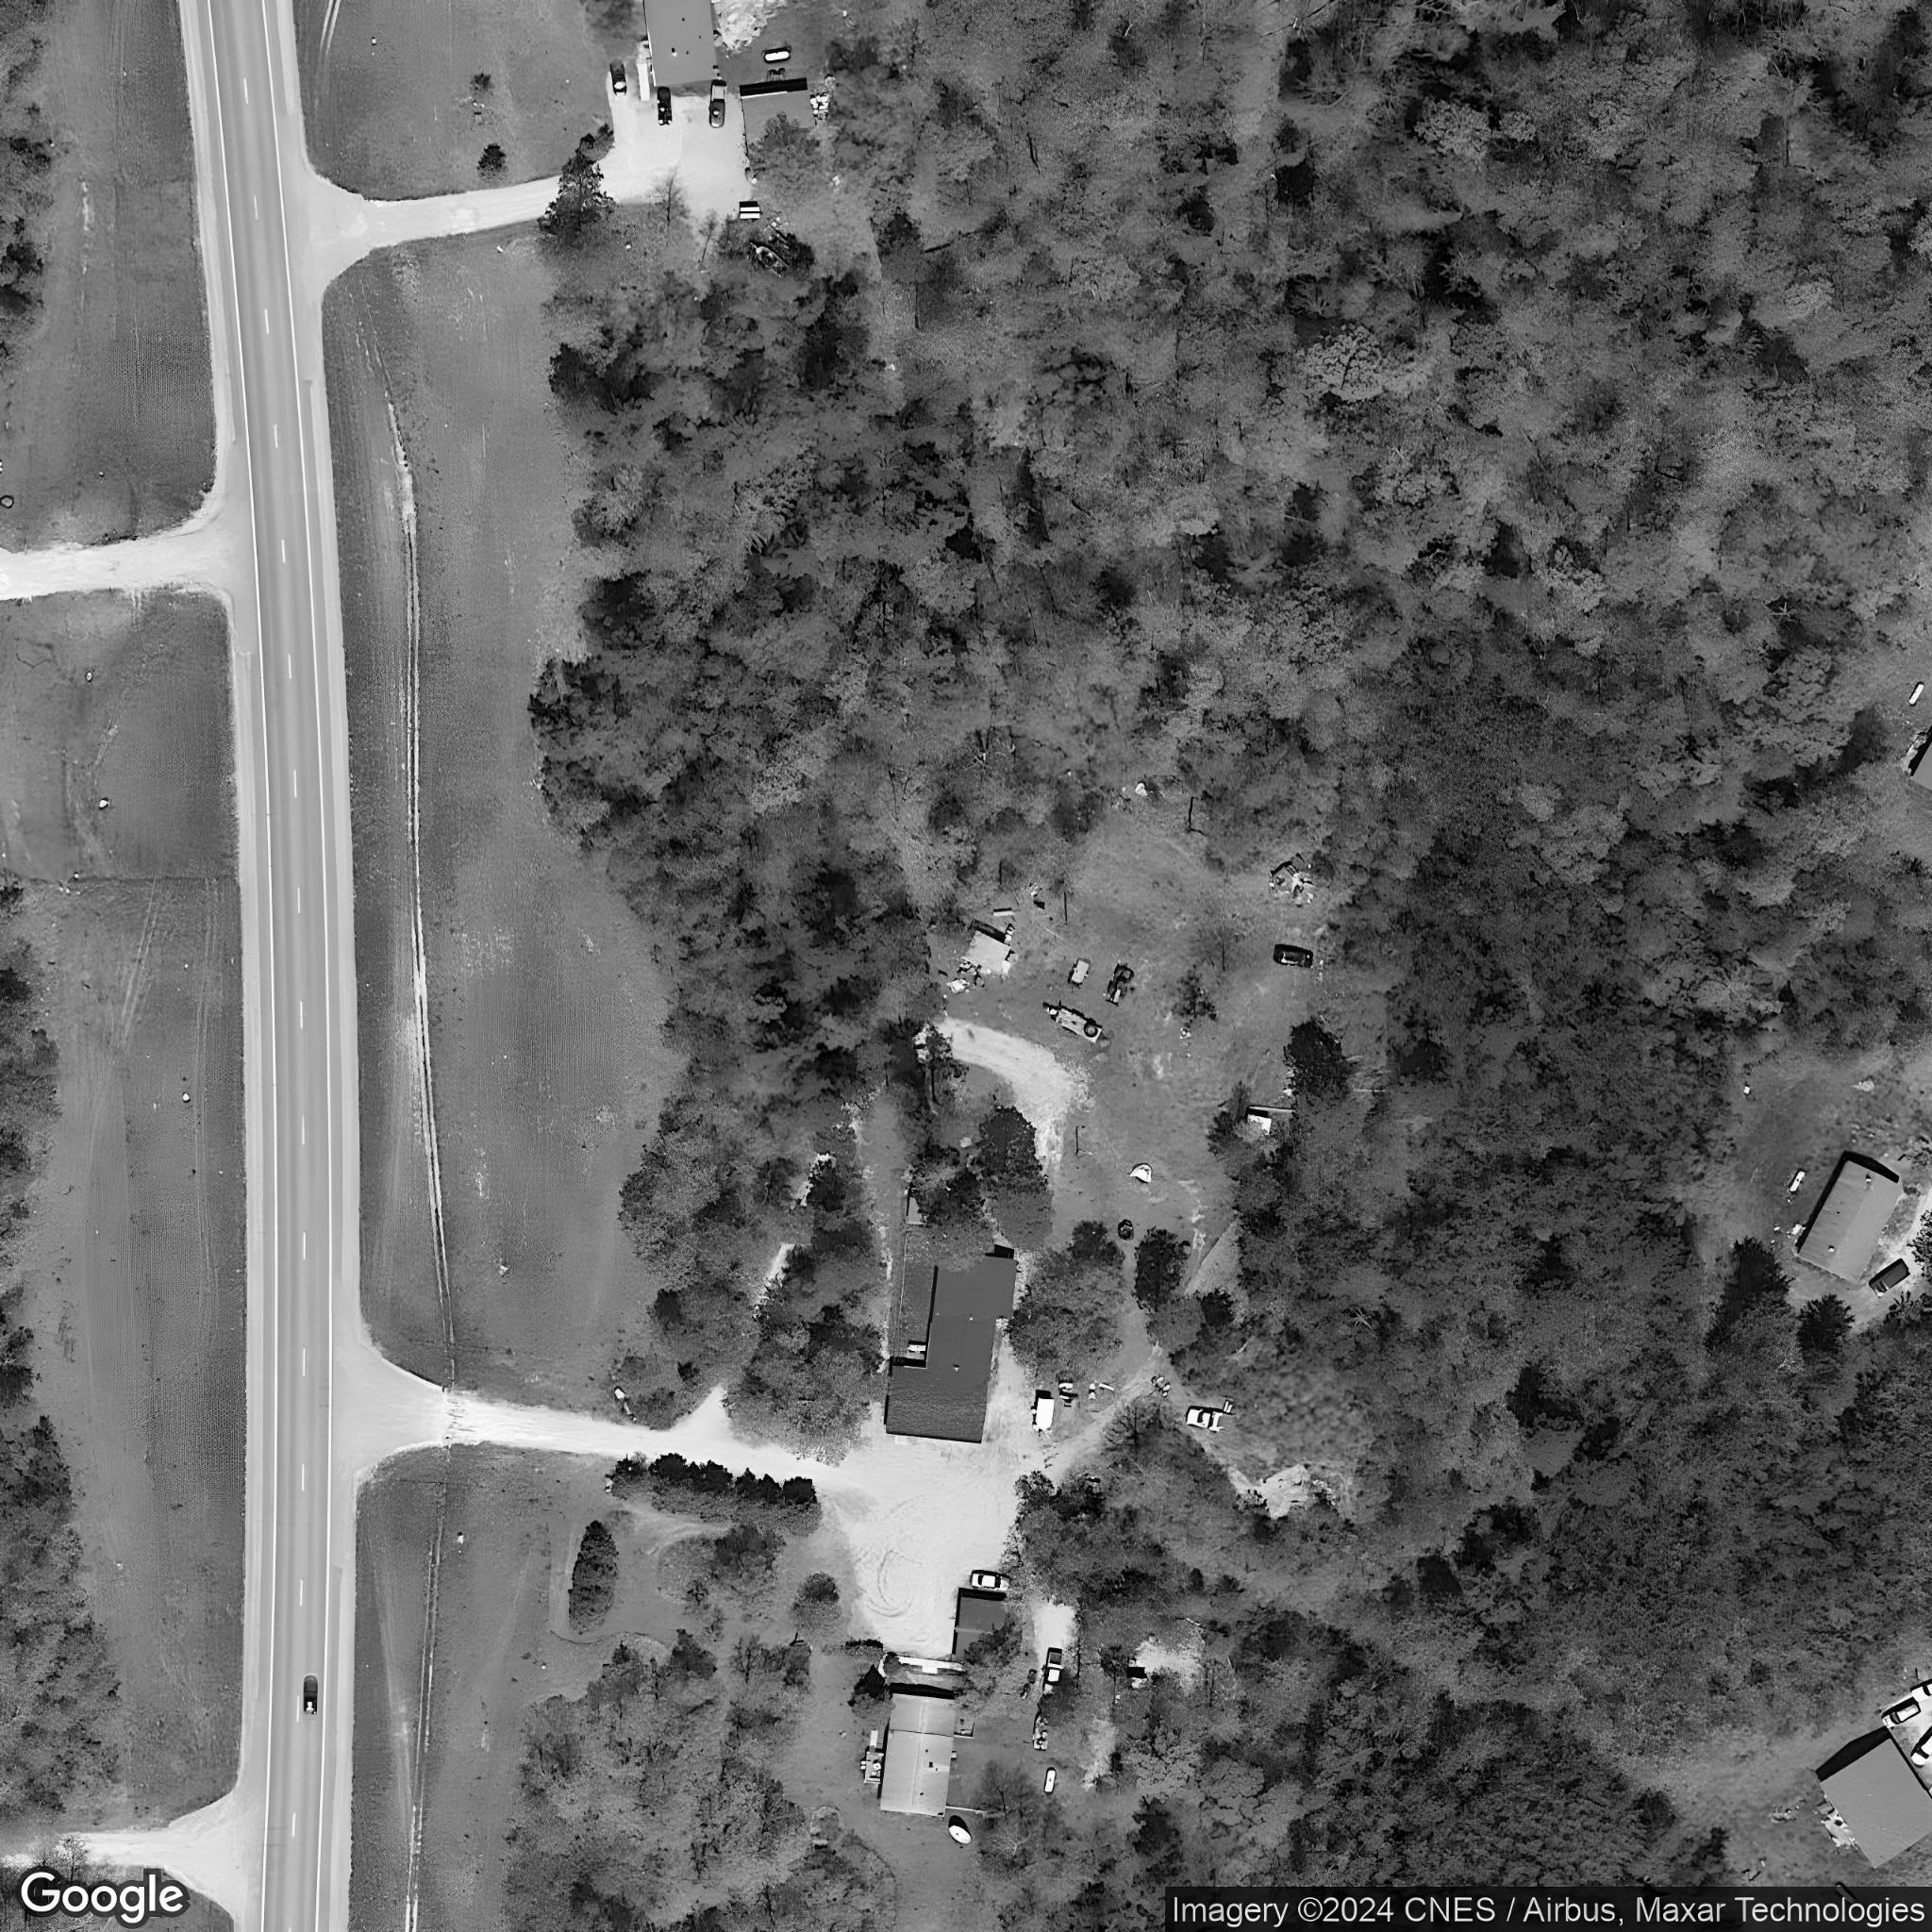Garage: (736, 88, 819, 172), (948, 1592, 1021, 1670)
House: (883, 1256, 1021, 1447), (1815, 1734, 1932, 1874), (1790, 1157, 1904, 1288), (878, 1691, 957, 1821), (642, 0, 720, 88)
Propane: (1039, 1764, 1062, 1801), (1900, 678, 1928, 708), (1785, 1166, 1810, 1200), (759, 42, 794, 64), (738, 200, 763, 212), (738, 212, 763, 221)
